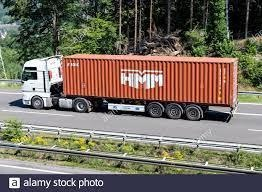truck: (21, 54, 238, 120)
